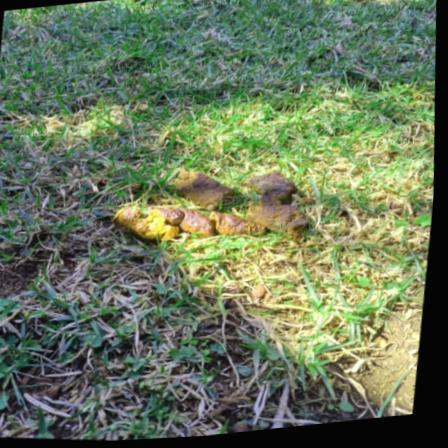dog-poop: (115, 162, 312, 258)
